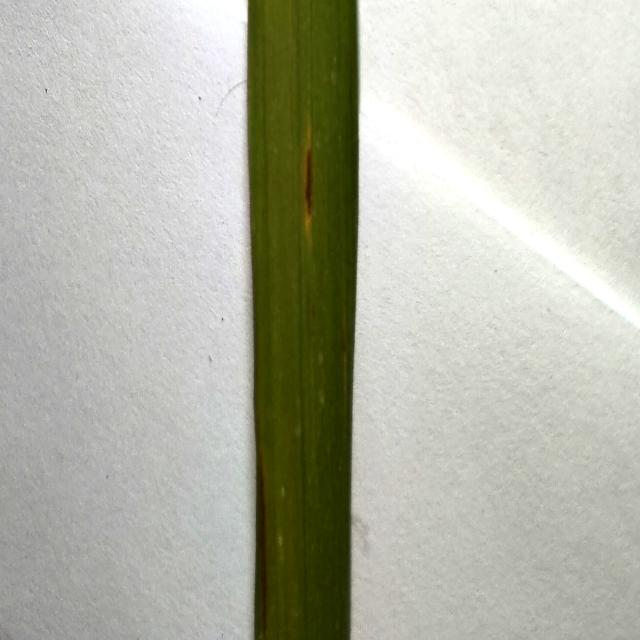NBS: (260, 454, 266, 632), (305, 150, 311, 216)
